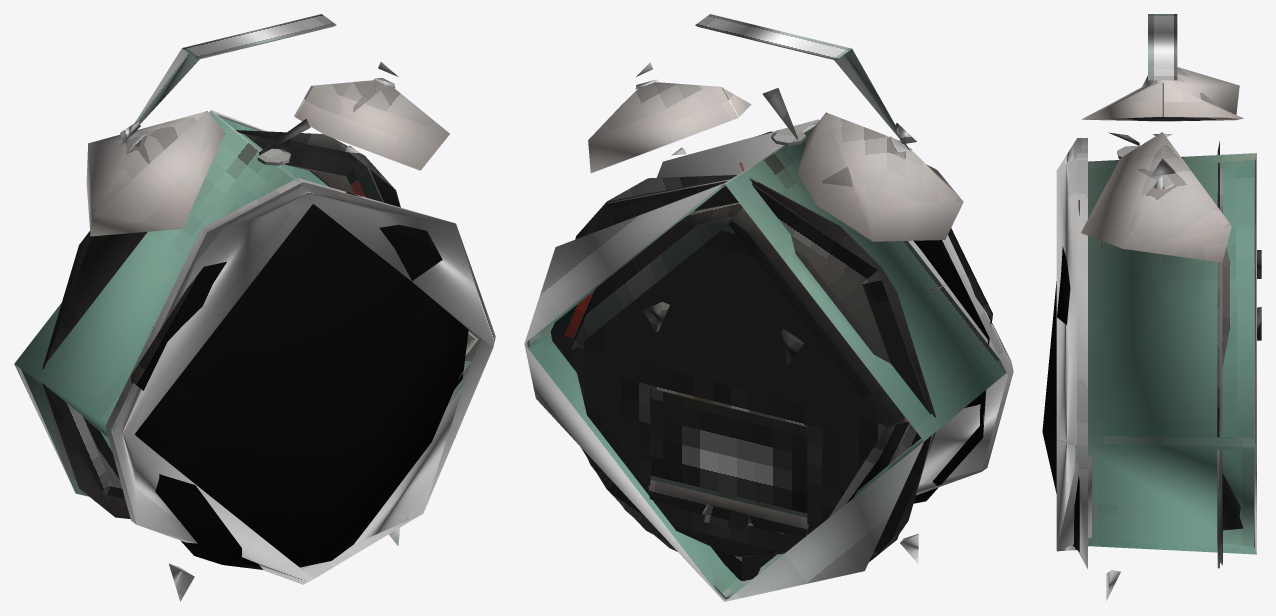
Rendered from alarm_clock.glb.
The picture shows the model from 3 angles, left to right: view 1: azimuth 30°, elevation 25°; view 2: azimuth 150°, elevation 25°; view 3: azimuth 270°, elevation 25°; orthographic projection. The views are drawn at different scales.
Parts seen in each view (by area): view 1: alarm_clock_01; view 2: alarm_clock_01; view 3: alarm_clock_01.
Part boxes in pixels (<box>): alarm_clock_01: <box>14,14,495,601</box>; alarm_clock_01: <box>524,14,1013,601</box>; alarm_clock_01: <box>1042,14,1261,600</box>.
Size of the model in its own units: 0.1312 by 0.1658 by 0.0649.
Materials: 2 (2 with a texture image).
